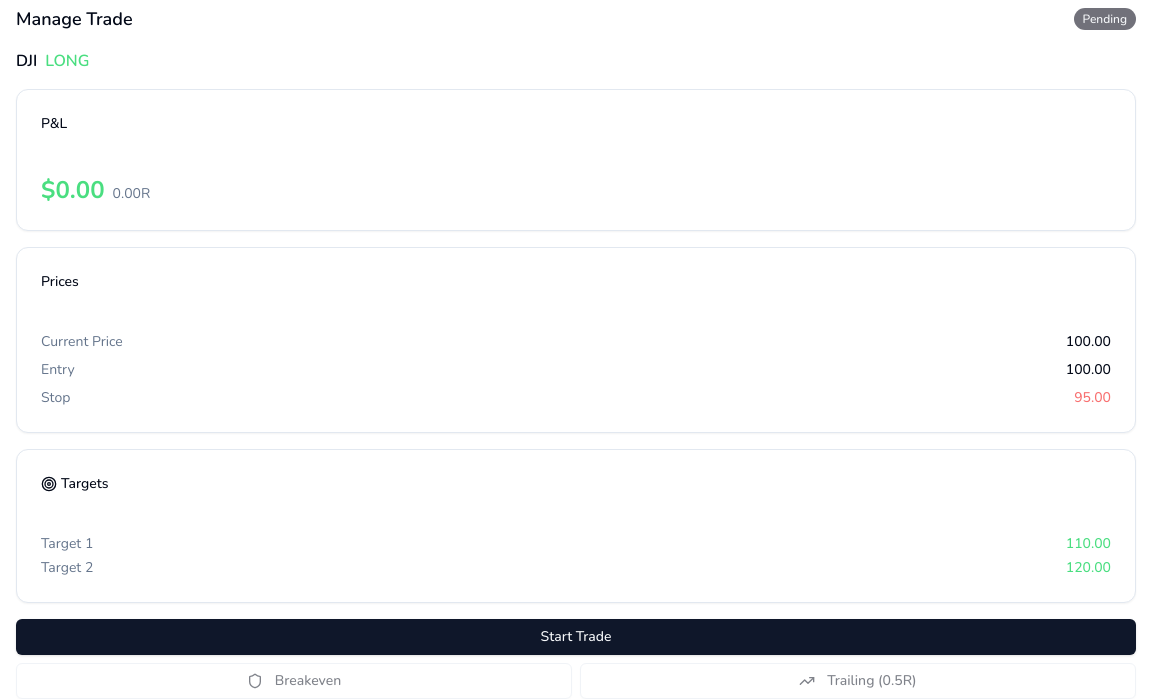
it: ManagePanel › trade log › should show breakeven log entry
This screenshot has width=1152, height=699.
Step 1. Click the button "Start Trade" → (576,637), box [16,619,1136,655]
(page scrolled)
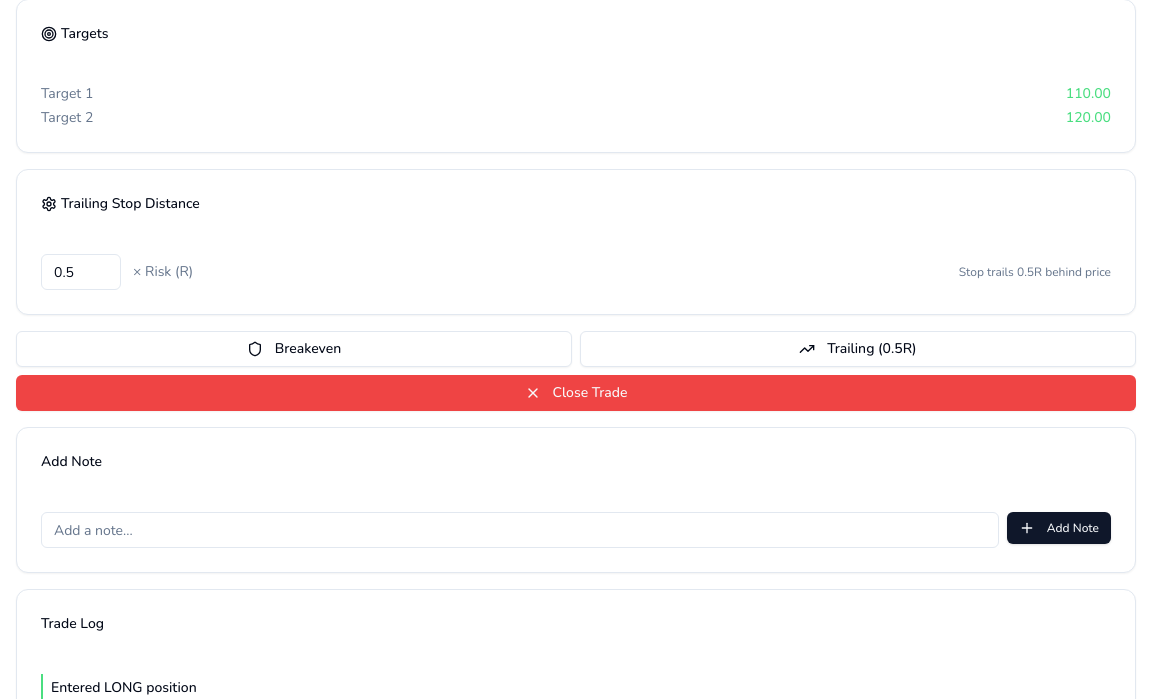
Step 2. Click the button "Breakeven" → (294,349), box [16,331,572,367]
(page scrolled)
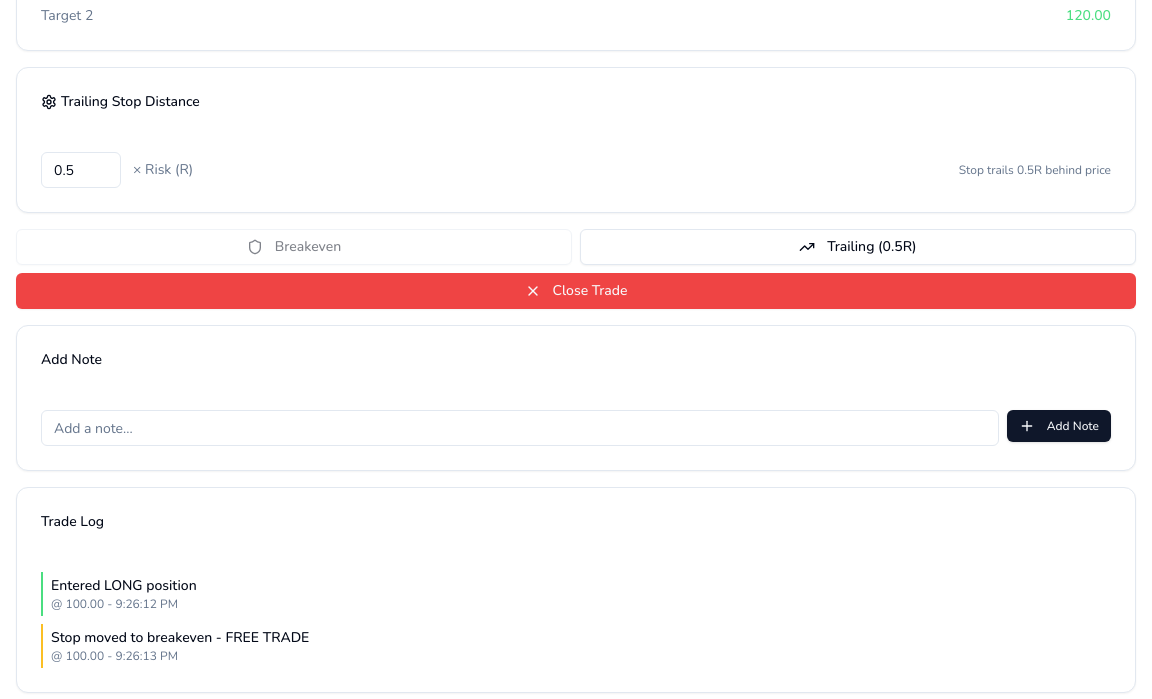
expect the text "Stop moved to breakeven - FREE TRADE" is shown: met, box [51,628,309,647]
